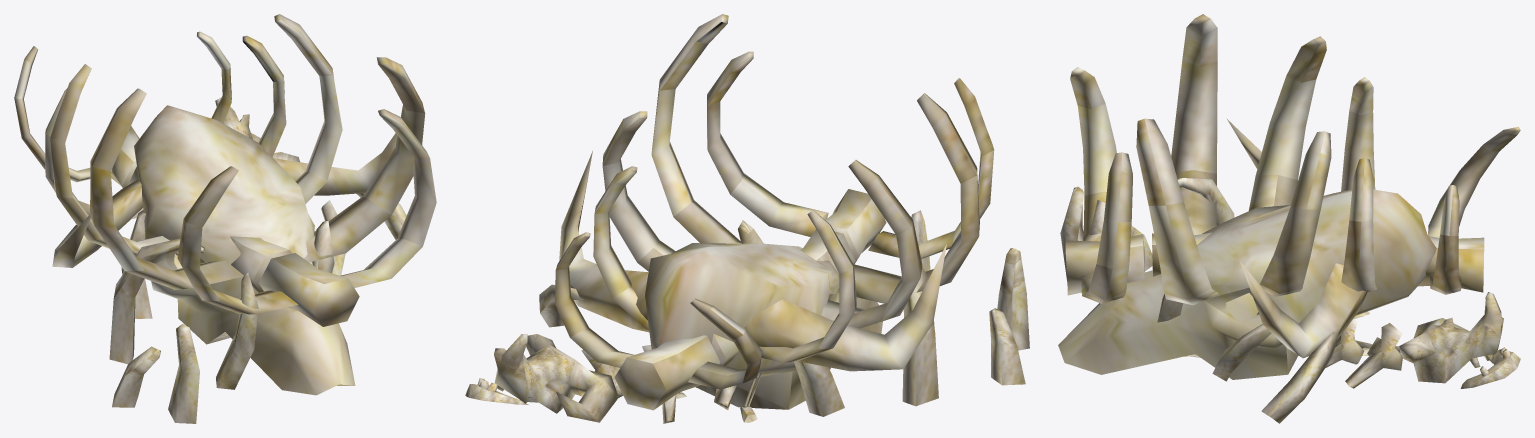
File: ZiRan_KouLou.fbx
The picture shows the model from 3 angles, left to right: view 1: azimuth 30°, elevation 25°; view 2: azimuth 150°, elevation 25°; view 3: azimuth 270°, elevation 25°; orthographic projection. The views are drawn at different scales.
Visible parts, largest first — view 1: ZiRan_KouLou03, ZiRan_KouLou04, ZiRan_KouLou05; view 2: ZiRan_KouLou03, ZiRan_KouLou04, ZiRan_KouLou05; view 3: ZiRan_KouLou03, ZiRan_KouLou04, ZiRan_KouLou05.
Boxes of the visible parts, left/top/right/bottom form: ZiRan_KouLou03: left=14, top=14, right=436, bottom=326; ZiRan_KouLou04: left=52, top=105, right=397, bottom=395; ZiRan_KouLou05: left=109, top=98, right=406, bottom=423; ZiRan_KouLou03: left=555, top=14, right=994, bottom=410; ZiRan_KouLou04: left=559, top=151, right=946, bottom=409; ZiRan_KouLou05: left=465, top=210, right=1029, bottom=423; ZiRan_KouLou03: left=1065, top=14, right=1520, bottom=305; ZiRan_KouLou04: left=1058, top=118, right=1436, bottom=379; ZiRan_KouLou05: left=1060, top=178, right=1520, bottom=423.
Size of the model in its own units: 30.34 by 22.62 by 32.73.
